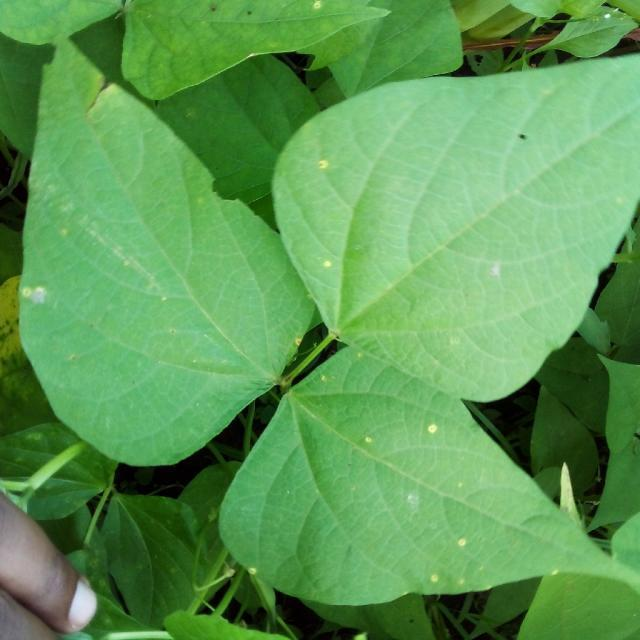hawar: (344, 392, 498, 595), (31, 193, 168, 376), (306, 149, 365, 295), (424, 319, 497, 386), (481, 243, 528, 300)
